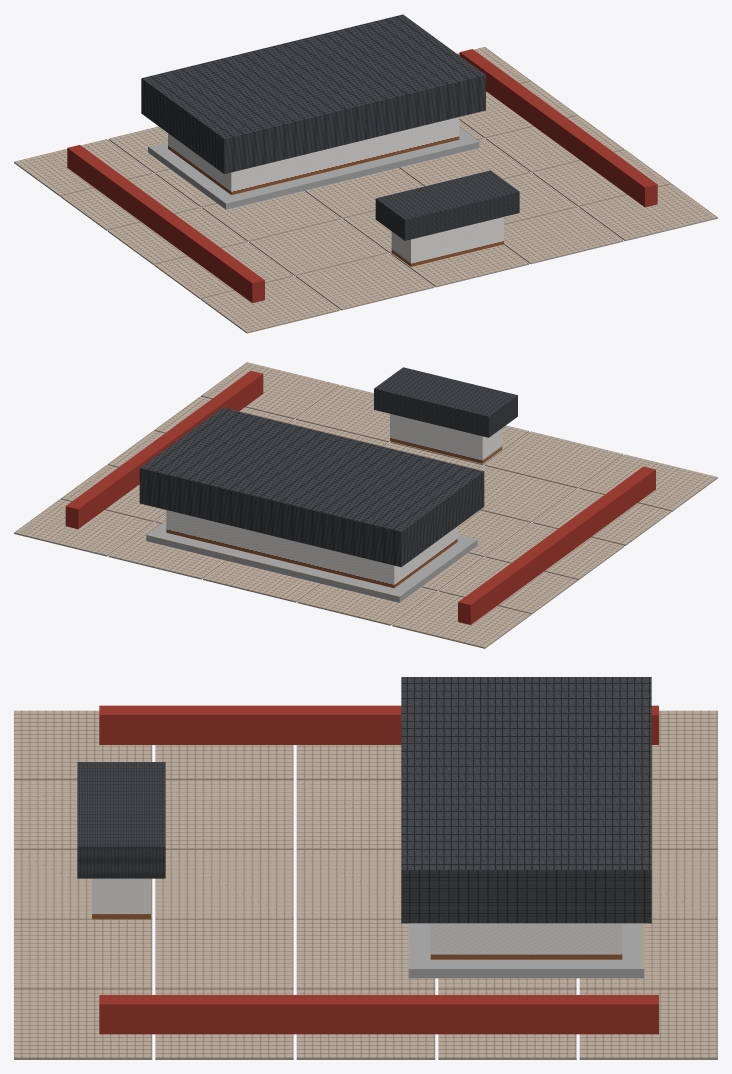
The picture shows the model from 3 angles, top to bottom: view 1: azimuth 30°, elevation 25°; view 2: azimuth 150°, elevation 25°; view 3: azimuth 270°, elevation 25°; orthographic projection. The views are drawn at different scales.
Visible parts, largest first — view 1: 28185_B42_Woninjae_Historic_Cultural_Park; view 2: 28185_B42_Woninjae_Historic_Cultural_Park; view 3: 28185_B42_Woninjae_Historic_Cultural_Park.
Boxes of the visible parts, box(x1,y1,x2,y2) form: 28185_B42_Woninjae_Historic_Cultural_Park: box(14, 14, 717, 333); 28185_B42_Woninjae_Historic_Cultural_Park: box(14, 362, 717, 648); 28185_B42_Woninjae_Historic_Cultural_Park: box(14, 677, 717, 1059).
Size of the model in its own units: 55.8 by 8.5 by 47.8.
Materials: 1 (1 with a texture image).
